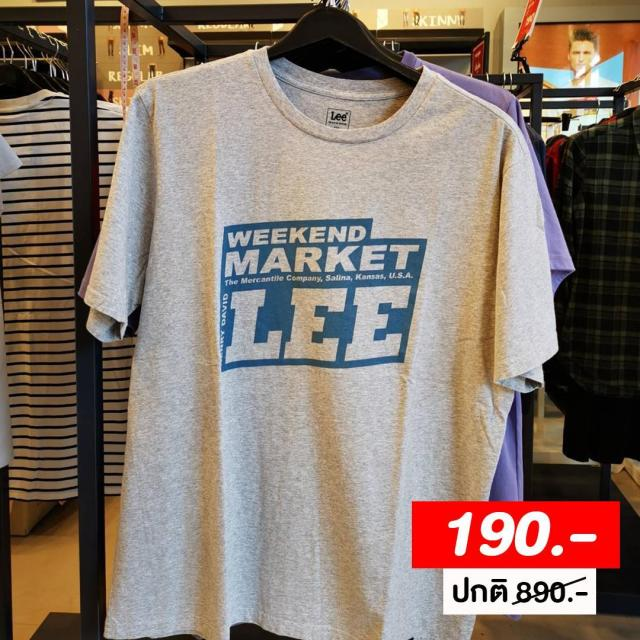Tshirt: (76, 51, 560, 640)
